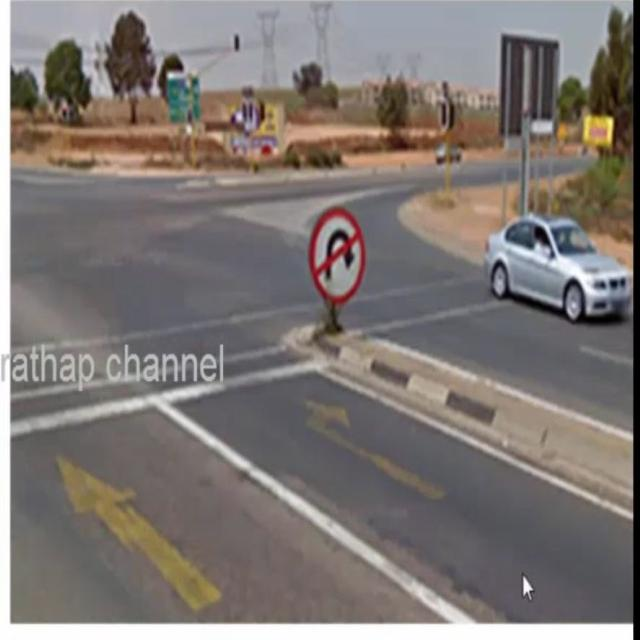no_uturn: (310, 208, 366, 301)
